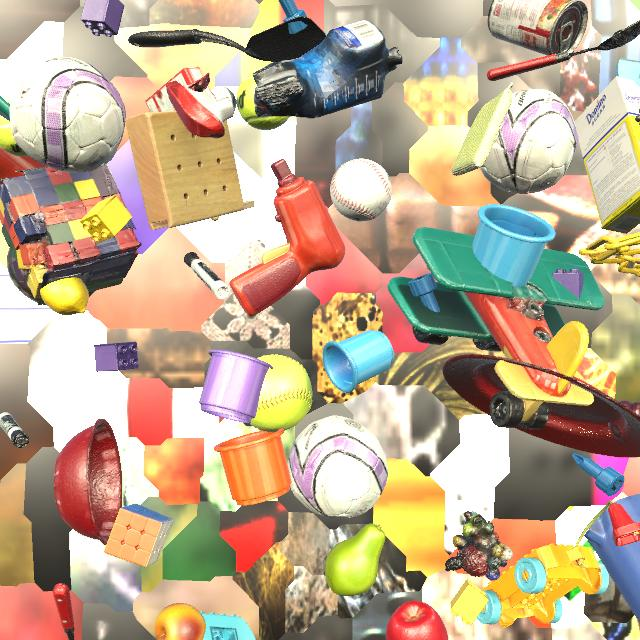ycb_004_sugar_box: (575, 76, 640, 234)
ycb_005_tomato_soup_can: (488, 0, 588, 56)
ycb_009_gelatin_box: (145, 66, 210, 112)
ycb_013_apple: (386, 601, 448, 640)
ycb_014_lemon: (40, 278, 89, 315)
ycb_015_peach: (154, 603, 206, 640)
ycb_016_pear: (325, 523, 385, 596)
ycb_018_plum: (608, 400, 640, 442)
